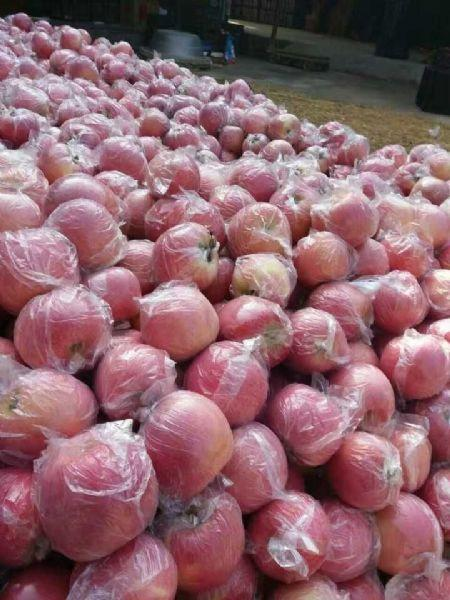apple: (39, 428, 159, 562), (138, 392, 235, 497), (156, 491, 246, 588), (12, 287, 112, 373), (246, 494, 329, 582), (1, 368, 97, 444), (185, 342, 270, 422), (268, 382, 341, 465), (140, 286, 217, 361), (96, 339, 173, 414), (1, 229, 75, 305), (224, 419, 286, 507), (334, 430, 401, 511), (220, 295, 292, 369), (328, 363, 396, 434), (50, 201, 119, 268), (150, 222, 219, 289), (382, 334, 446, 400), (287, 309, 351, 375), (231, 252, 293, 307), (228, 201, 288, 257), (374, 270, 426, 331), (294, 233, 350, 283), (144, 150, 200, 198), (330, 196, 373, 242)
